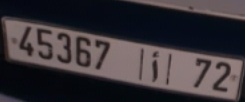2: (212, 61, 230, 95)
3: (56, 32, 70, 65)
4: (18, 23, 35, 58)
5: (37, 27, 53, 59)
6: (74, 34, 91, 68)
7: (193, 56, 212, 89), (94, 37, 111, 71)
a: (148, 49, 160, 84)
